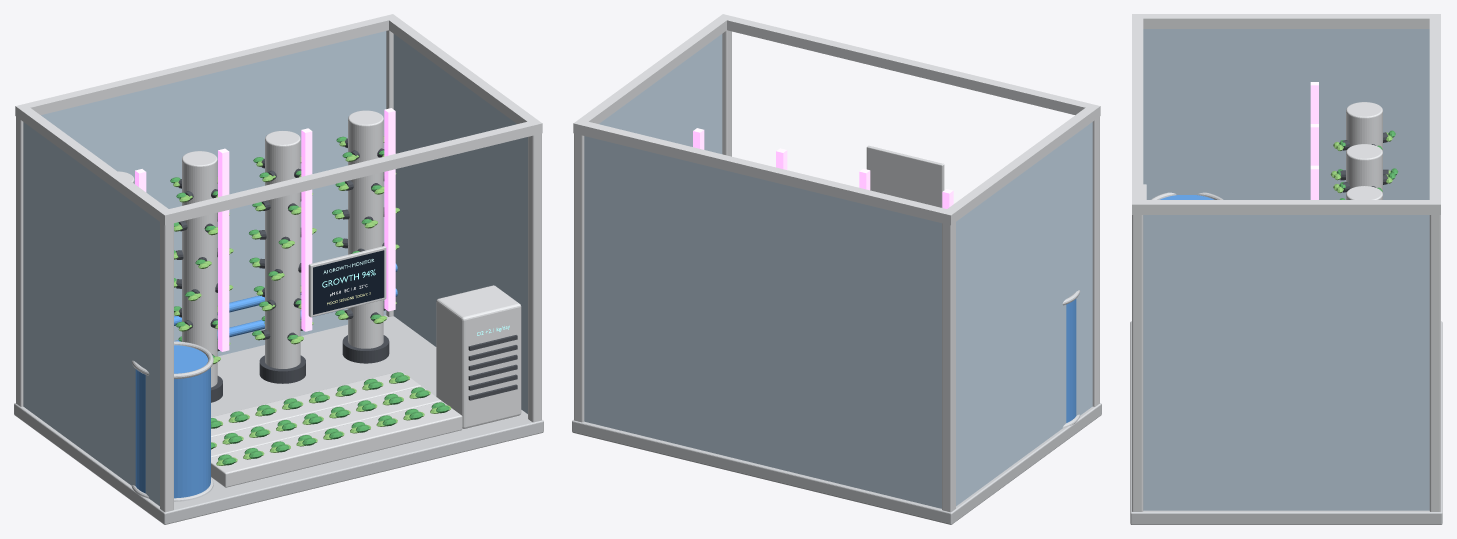
File: greenhouse.glb
The picture shows the model from 3 angles, left to right: view 1: azimuth 30°, elevation 25°; view 2: azimuth 150°, elevation 25°; view 3: azimuth 270°, elevation 25°; orthographic projection. The views are drawn at different scales.
Parts seen in each view (by area): view 1: Back_Glass, Floor_Plate, Grow_Light_Bar; view 2: Back_Glass, Floor_Plate, Grow_Light_Bar; view 3: Back_Glass, Floor_Plate, Grow_Light_Bar.
Part boxes in pixels (x1,y1,x2,y2): Back_Glass: (23, 31, 527, 506); Floor_Plate: (14, 14, 543, 524); Grow_Light_Bar: (135, 108, 395, 351); Back_Glass: (584, 34, 1092, 508); Floor_Plate: (572, 14, 1101, 524); Grow_Light_Bar: (693, 128, 953, 208); Back_Glass: (1143, 29, 1429, 510); Floor_Plate: (1130, 14, 1442, 524); Grow_Light_Bar: (1310, 82, 1318, 199).
Bounding box in the file's own units: 3.2 × 2.49 × 2.2.
Materials: 5 (5 with a texture image).
